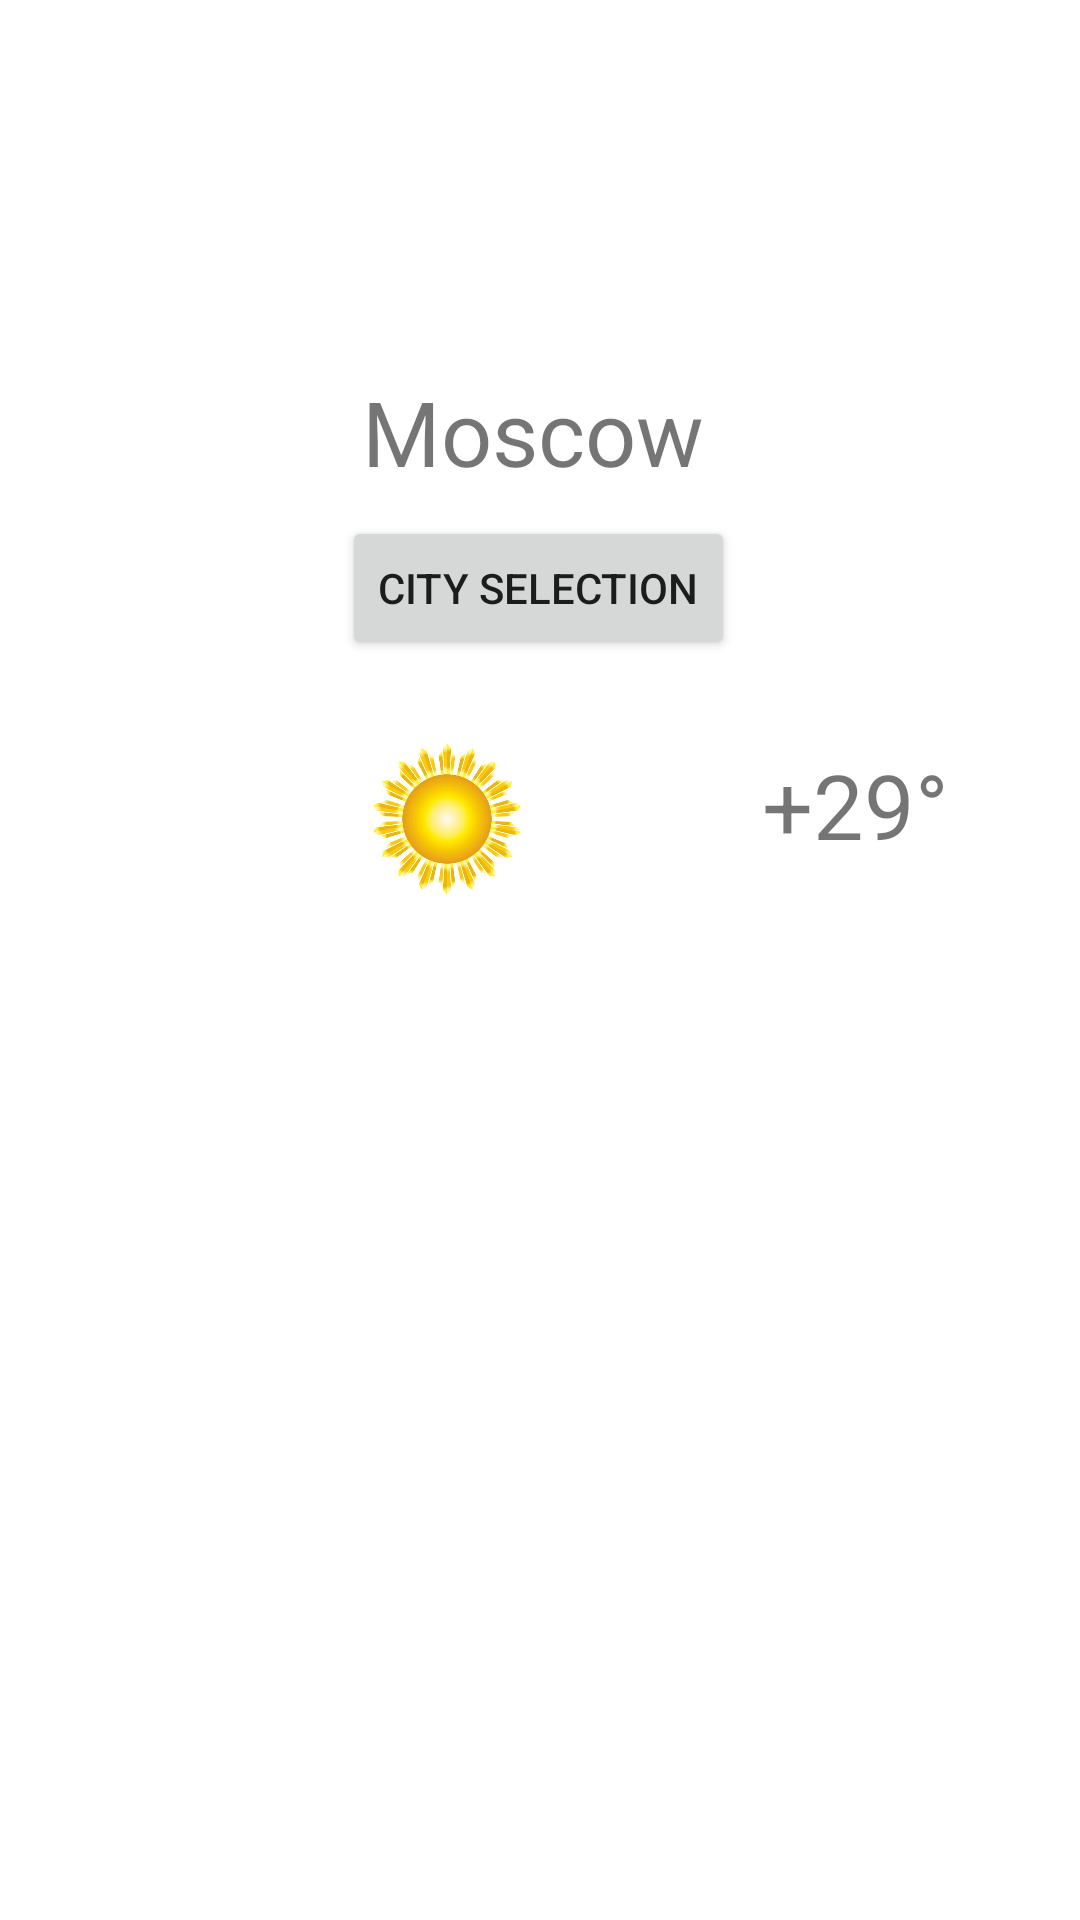

Icon bounding boxes for this 1080×1920 phone screenshot, format (x1, y1, x2, y2):
sun: (373, 744, 521, 894)
